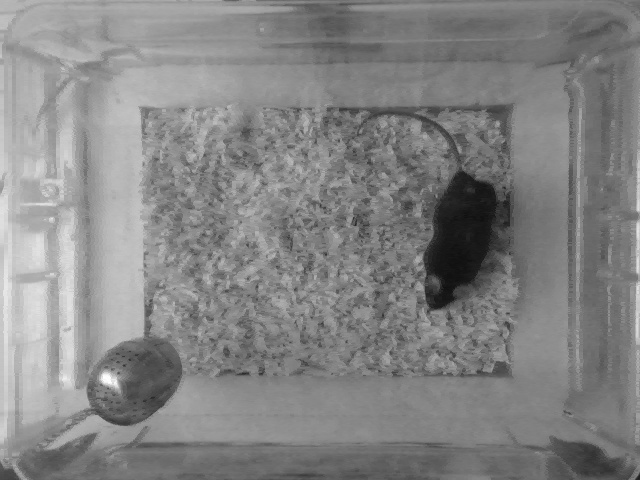mice: (351, 107, 509, 312)
